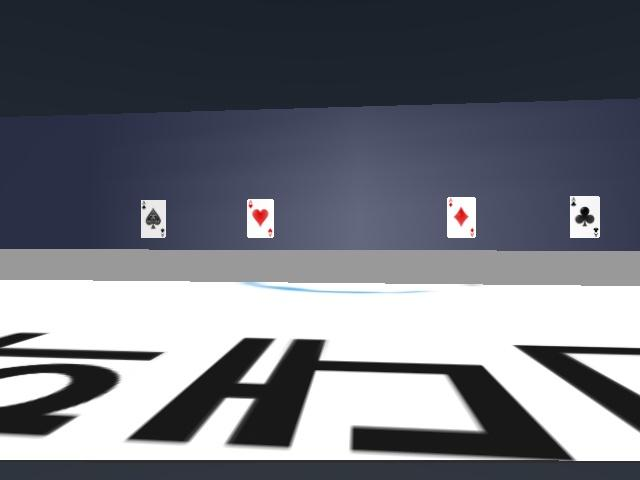club: (569, 196, 600, 237)
diamond: (446, 197, 476, 237)
heart: (247, 199, 273, 237)
spade: (141, 200, 166, 237)
